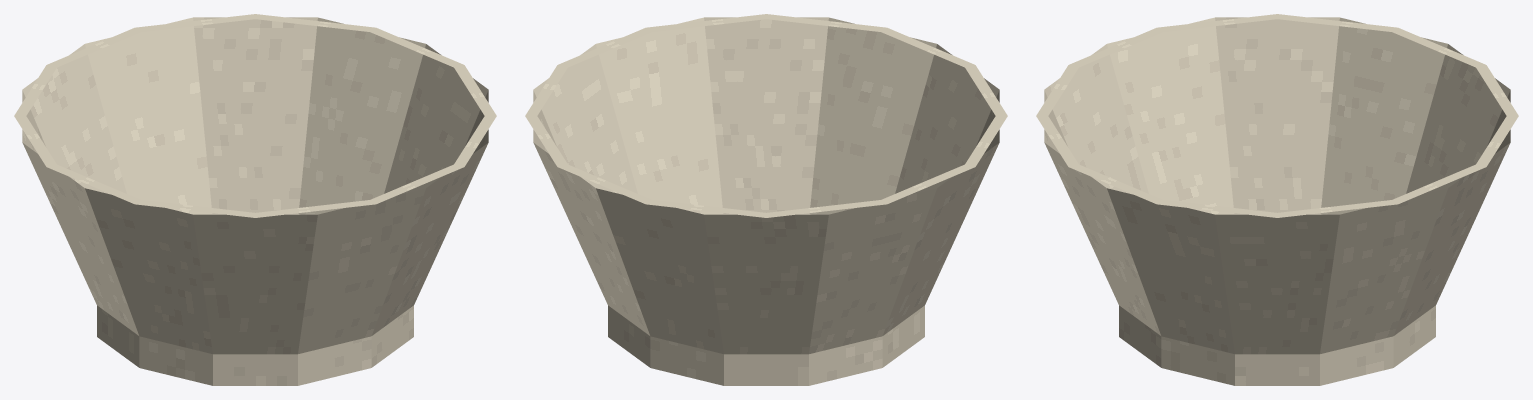
The model's file is ceramic_bowl.glb.
3 views of the same model, side by side, from view 1: azimuth 30°, elevation 25°; view 2: azimuth 150°, elevation 25°; view 3: azimuth 270°, elevation 25° (orthographic).
Visible parts, largest first — view 1: block_raised sides, block_thick foot, block_rolled rim 9, block_rolled rim 10, block_rolled rim 3, block_rolled rim 4, block_rolled rim 2, block_rolled rim 5, block_rolled rim 8, block_rolled rim 11, block_rolled rim 0, block_rolled rim 1 (+2 smaller); view 2: block_raised sides, block_thick foot, block_rolled rim 1, block_rolled rim 2, block_rolled rim 7, block_rolled rim 8, block_rolled rim 6, block_rolled rim 9, block_rolled rim 0, block_rolled rim 3, block_rolled rim 4, block_rolled rim 5 (+2 smaller); view 3: block_raised sides, block_thick foot, block_rolled rim 5, block_rolled rim 6, block_rolled rim 0, block_rolled rim 11, block_rolled rim 1, block_rolled rim 10, block_rolled rim 4, block_rolled rim 7, block_rolled rim 2, block_rolled rim 3 (+2 smaller).
Part boxes in pixels (x1=…): block_raised sides: x1=22, y1=17, x2=488, y2=354; block_thick foot: x1=97, y1=214, x2=413, y2=385; block_rolled rim 9: x1=135, y1=14, x2=255, y2=31; block_rolled rim 10: x1=255, y1=14, x2=375, y2=31; block_rolled rim 3: x1=255, y1=200, x2=375, y2=217; block_rolled rim 4: x1=135, y1=200, x2=255, y2=217; block_rolled rim 2: x1=370, y1=164, x2=463, y2=204; block_rolled rim 5: x1=47, y1=164, x2=140, y2=204; block_rolled rim 8: x1=47, y1=27, x2=140, y2=67; block_rolled rim 11: x1=370, y1=27, x2=463, y2=67; block_rolled rim 0: x1=454, y1=65, x2=496, y2=115; block_rolled rim 1: x1=454, y1=116, x2=496, y2=166; block_raised sides: x1=533, y1=17, x2=999, y2=354; block_thick foot: x1=608, y1=214, x2=924, y2=385; block_rolled rim 1: x1=646, y1=14, x2=766, y2=31; block_rolled rim 2: x1=766, y1=14, x2=886, y2=31; block_rolled rim 7: x1=766, y1=200, x2=886, y2=217; block_rolled rim 8: x1=646, y1=200, x2=766, y2=217; block_rolled rim 6: x1=881, y1=164, x2=974, y2=204; block_rolled rim 9: x1=558, y1=164, x2=651, y2=204; block_rolled rim 0: x1=558, y1=27, x2=651, y2=67; block_rolled rim 3: x1=881, y1=27, x2=974, y2=67; block_rolled rim 4: x1=965, y1=65, x2=1007, y2=115; block_rolled rim 5: x1=965, y1=116, x2=1007, y2=166; block_raised sides: x1=1044, y1=17, x2=1510, y2=354; block_thick foot: x1=1119, y1=214, x2=1435, y2=385; block_rolled rim 5: x1=1157, y1=14, x2=1277, y2=31; block_rolled rim 6: x1=1277, y1=14, x2=1397, y2=31; block_rolled rim 0: x1=1157, y1=200, x2=1277, y2=217; block_rolled rim 11: x1=1277, y1=200, x2=1397, y2=217; block_rolled rim 1: x1=1069, y1=164, x2=1162, y2=204; block_rolled rim 10: x1=1392, y1=164, x2=1485, y2=204; block_rolled rim 4: x1=1069, y1=27, x2=1162, y2=67; block_rolled rim 7: x1=1392, y1=27, x2=1485, y2=67; block_rolled rim 2: x1=1036, y1=116, x2=1078, y2=166; block_rolled rim 3: x1=1036, y1=65, x2=1078, y2=115.
Bounding box in the file's own units: 0.13 × 0.0603 × 0.13.
2 materials, 2 textured.
